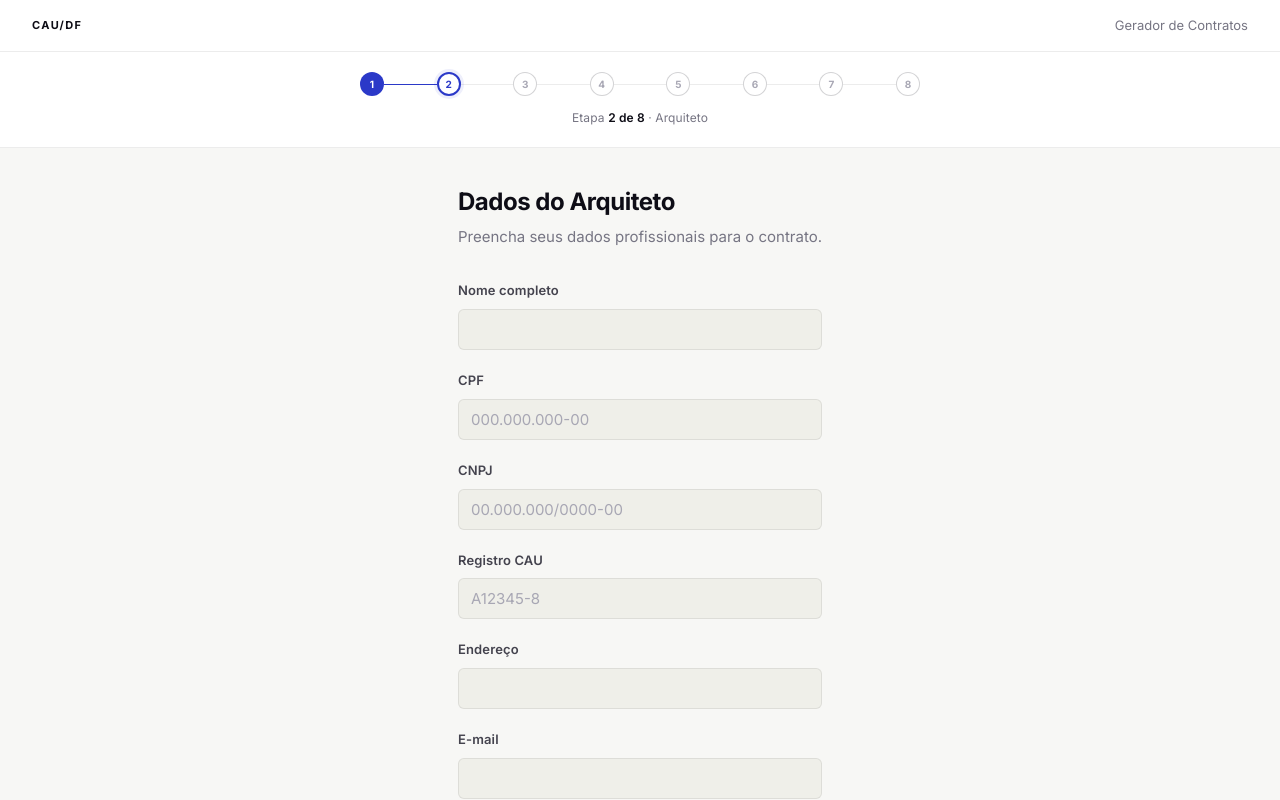
it: ArchitectFormPage › CPF mask is applied when typing
The image size is (1280, 800).
In the field labelled "CPF": [640, 419] box [458,399,822,440], type "52998224725"
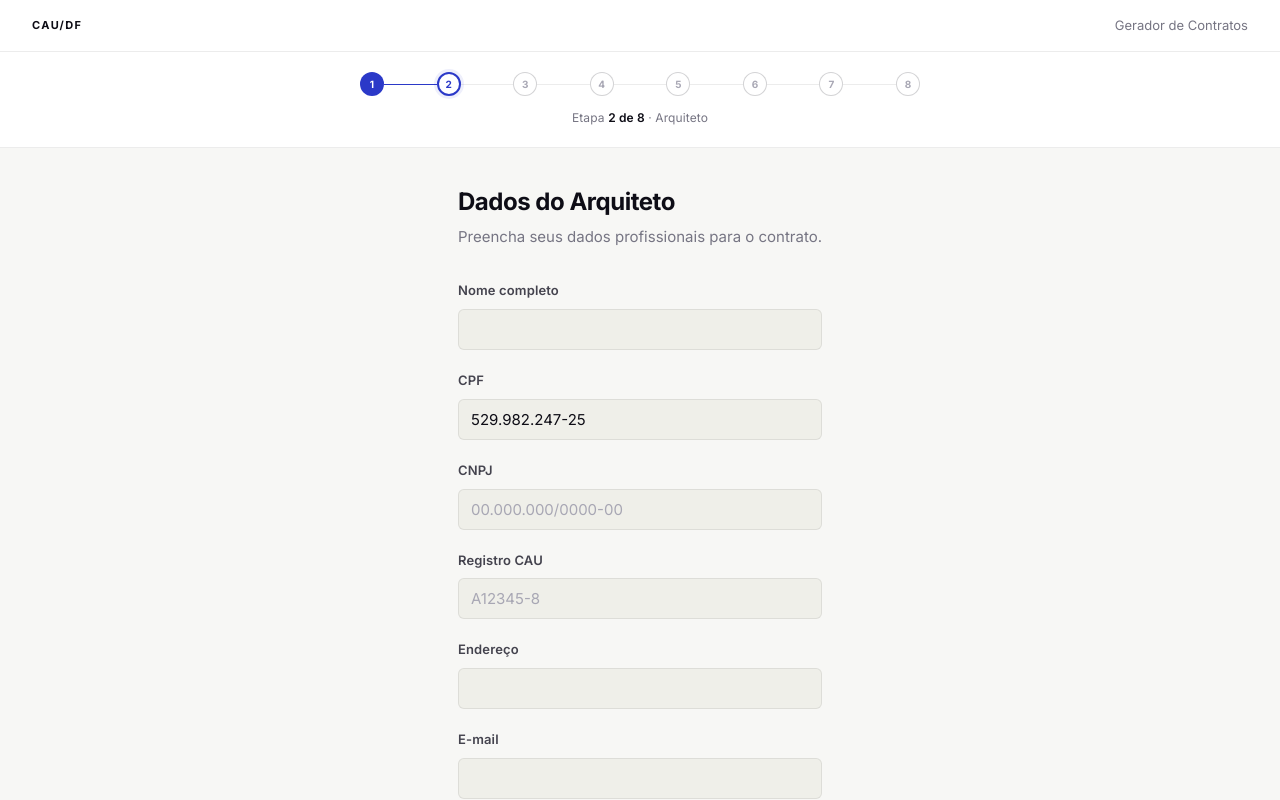
Result: the field labelled "CPF" holds "529.982.247-25" at [458,399,822,440]
